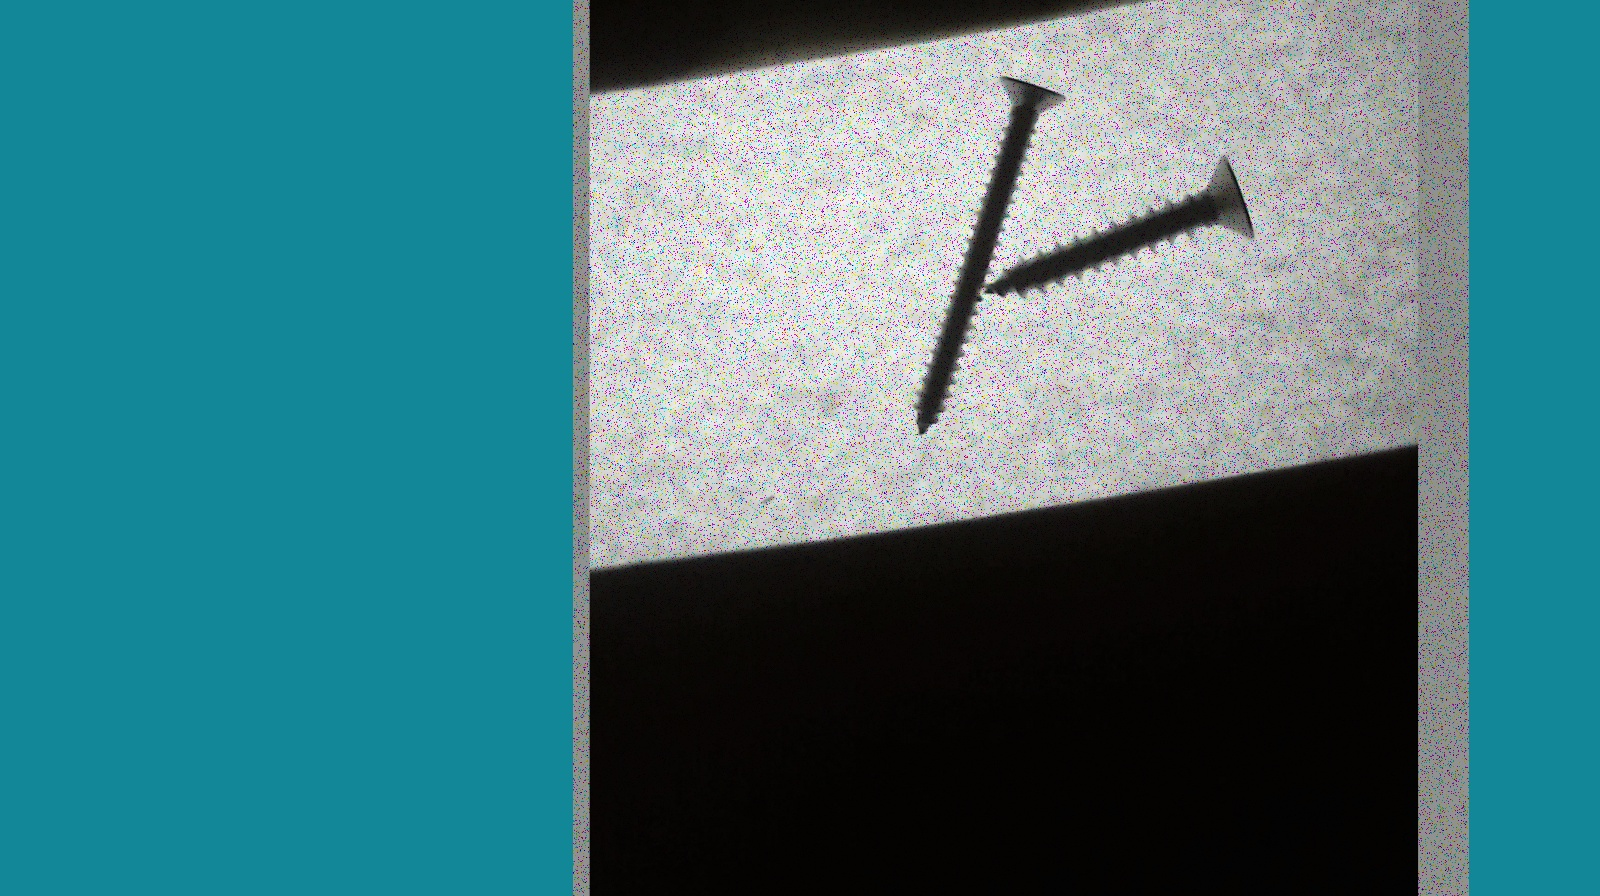S001: (982, 150, 1257, 301)
S002: (912, 66, 1071, 433)
